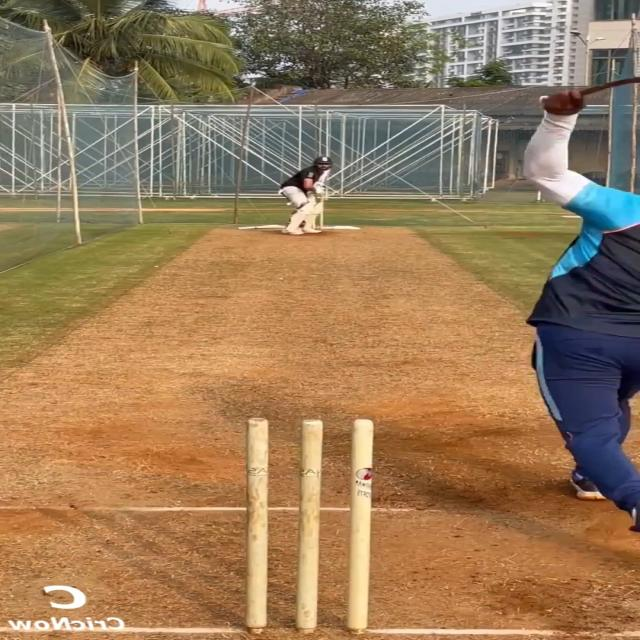stump: (241, 417, 376, 640)
